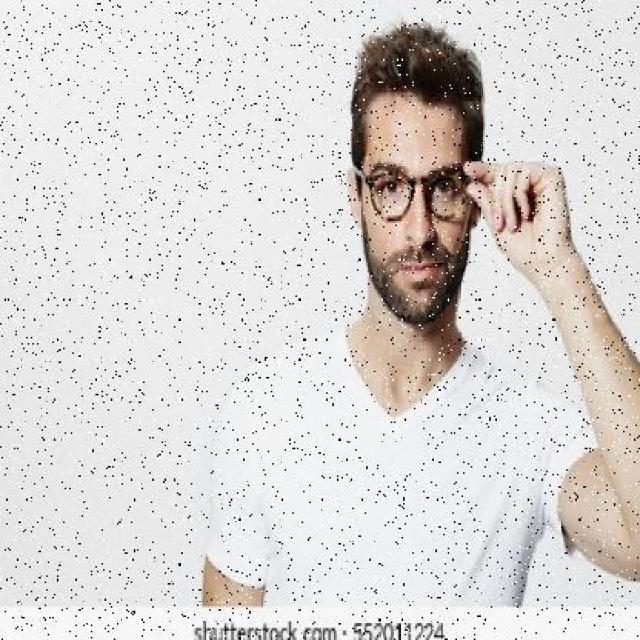mask: (362, 162, 484, 228)
